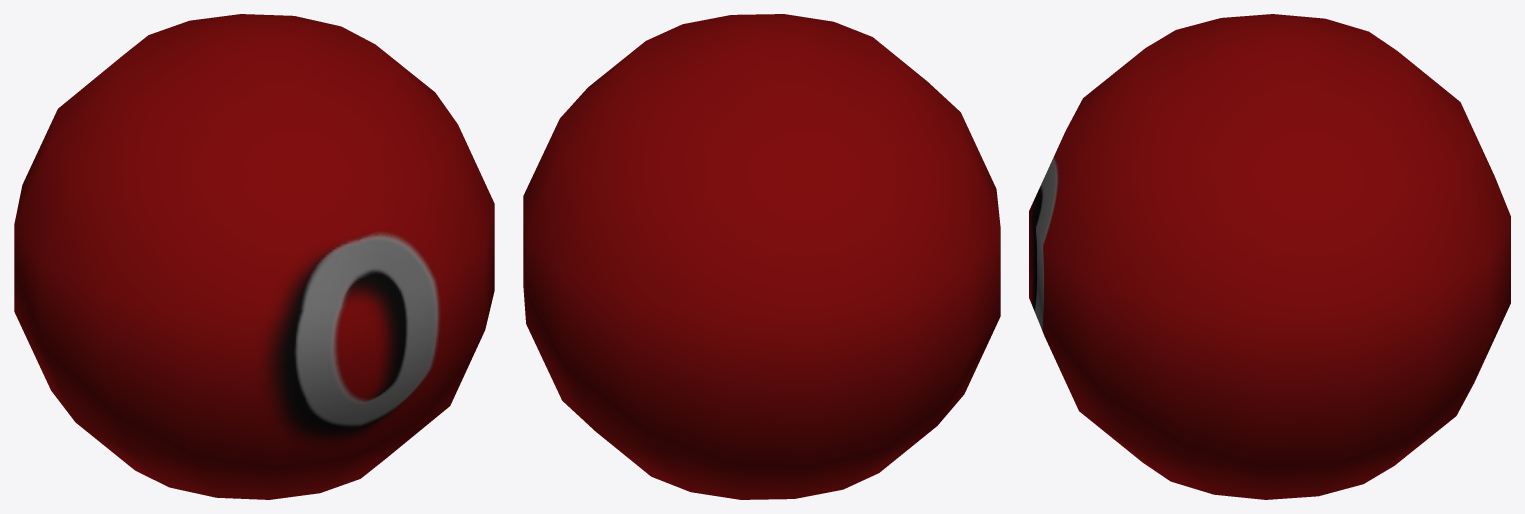
3 renders of one model, left to right at view 1: azimuth 30°, elevation 25°; view 2: azimuth 150°, elevation 25°; view 3: azimuth 270°, elevation 25°, orthographic.
Visible parts, largest first — view 1: Atom5; view 2: Atom5; view 3: Atom5.
Part boxes in pixels (left/top/right/bottom): Atom5: left=14, top=14, right=494, bottom=499; Atom5: left=523, top=14, right=1000, bottom=499; Atom5: left=1029, top=14, right=1510, bottom=499.
Bounding box in the file's own units: 1.3 × 1.33 × 1.3.
Materials: 1 (1 with a texture image).
